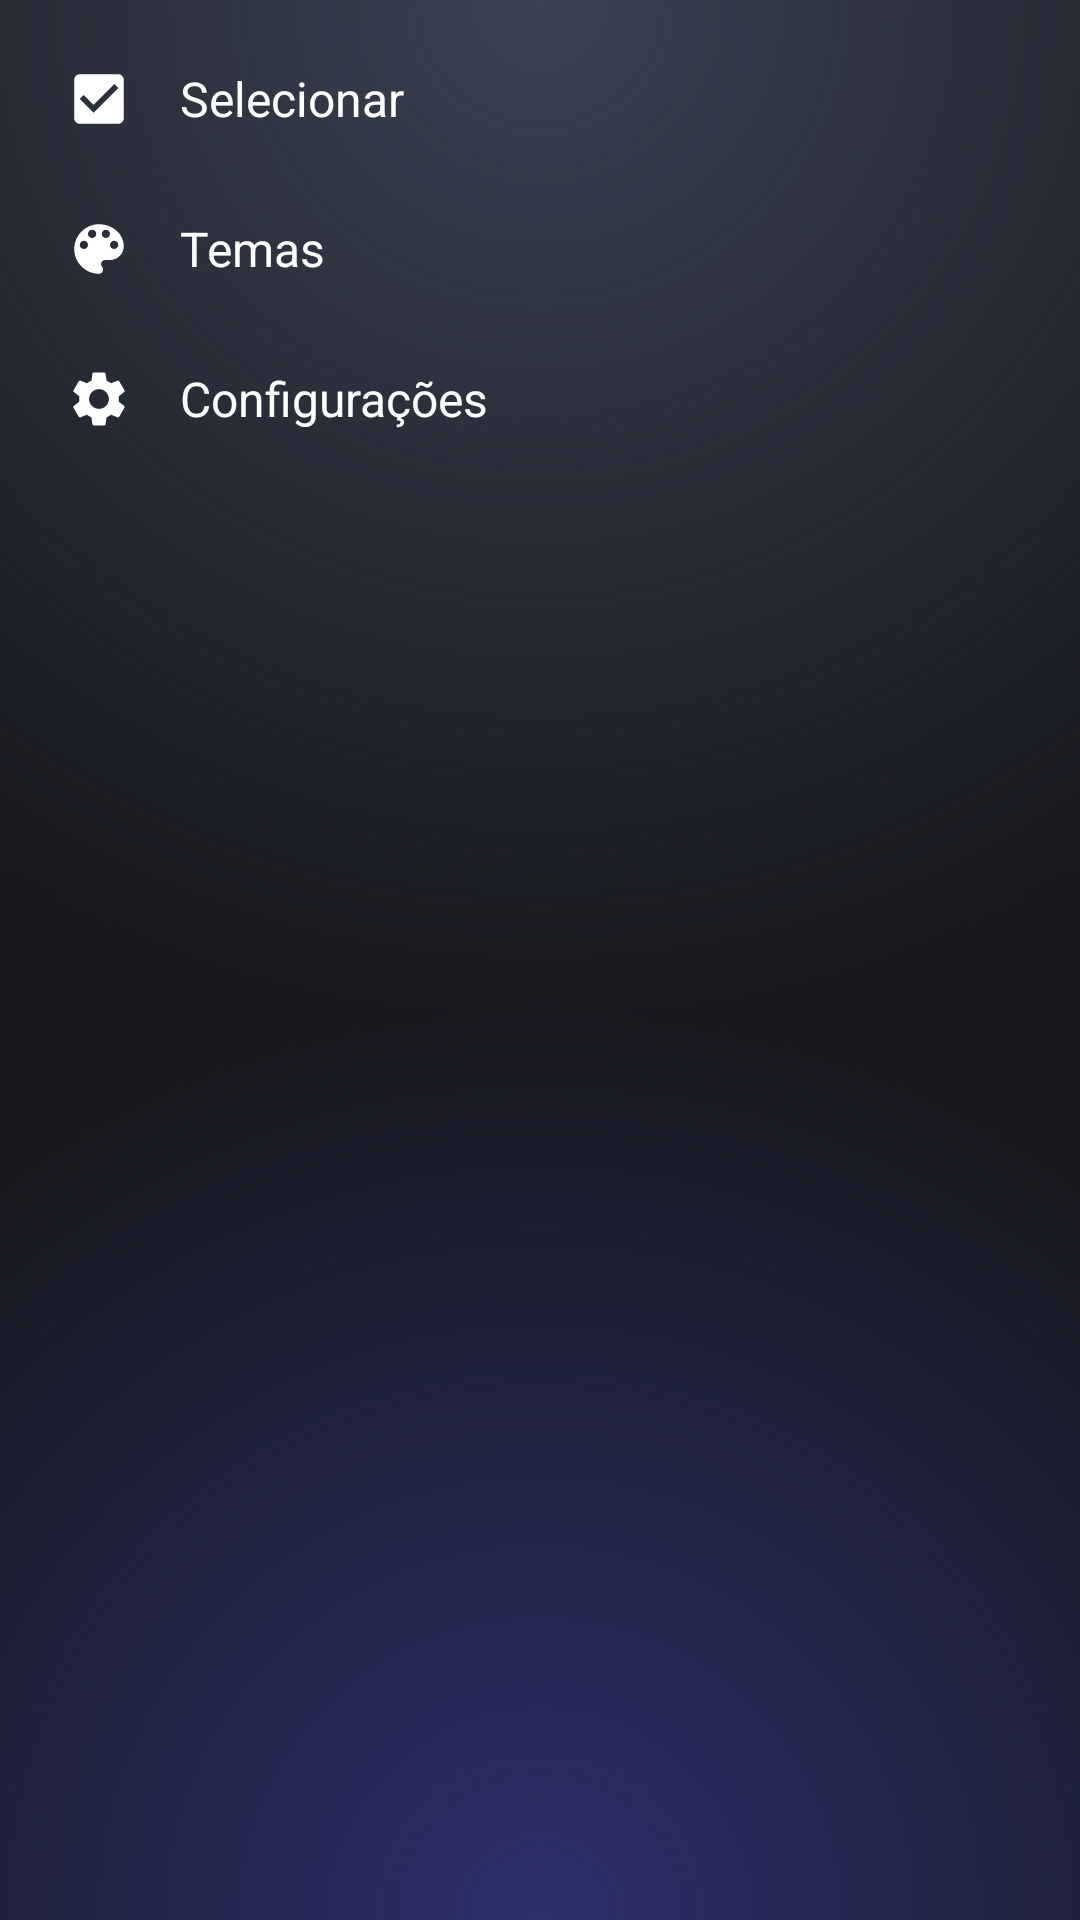

Icon bounding boxes for this 1080px x 1920px phone screenshot, format bbox(x1, y1, x2, y2):
palette: bbox(74, 224, 124, 274)
select: bbox(74, 74, 124, 124)
settings: bbox(73, 372, 125, 426)
